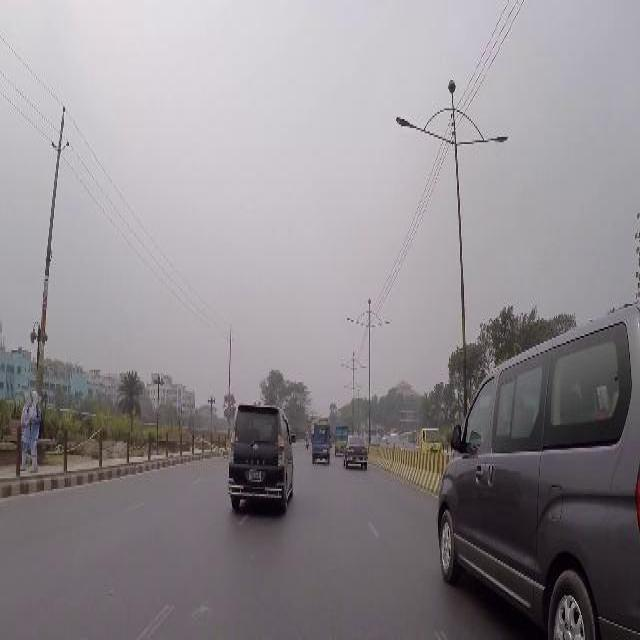car: (342, 434, 368, 469)
minivan: (225, 399, 295, 511)
motorbike: (304, 429, 308, 449)
pickup: (310, 421, 330, 462), (415, 426, 441, 452), (334, 422, 348, 456)
van: (430, 300, 636, 632)
